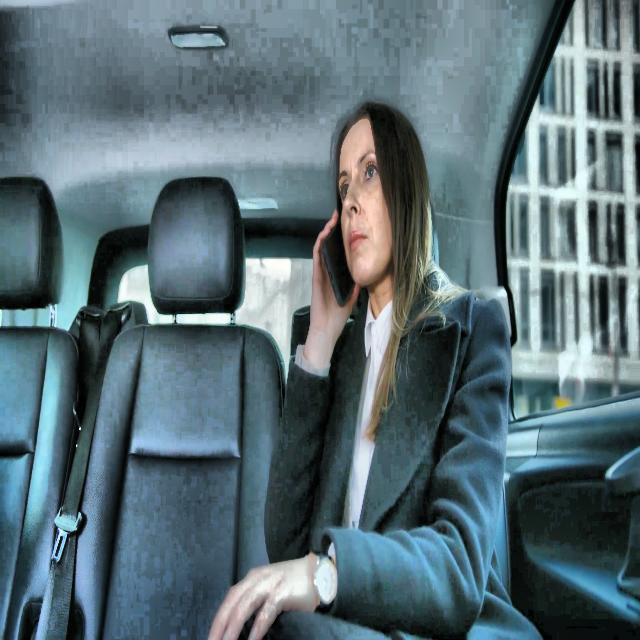Phone: (321, 212, 356, 309)
